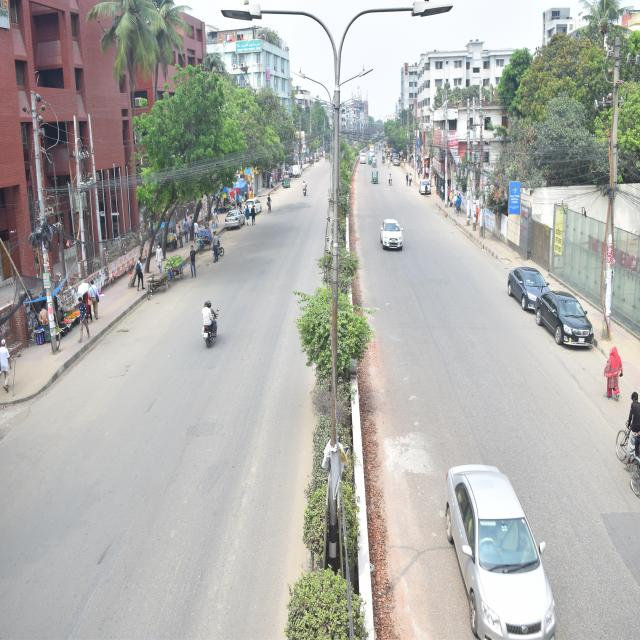car: (440, 457, 583, 640), (538, 289, 599, 353), (507, 260, 554, 308), (380, 214, 409, 253), (225, 210, 245, 234), (243, 198, 263, 216), (418, 174, 432, 197)
motorbike: (199, 304, 224, 353), (302, 180, 310, 198)
